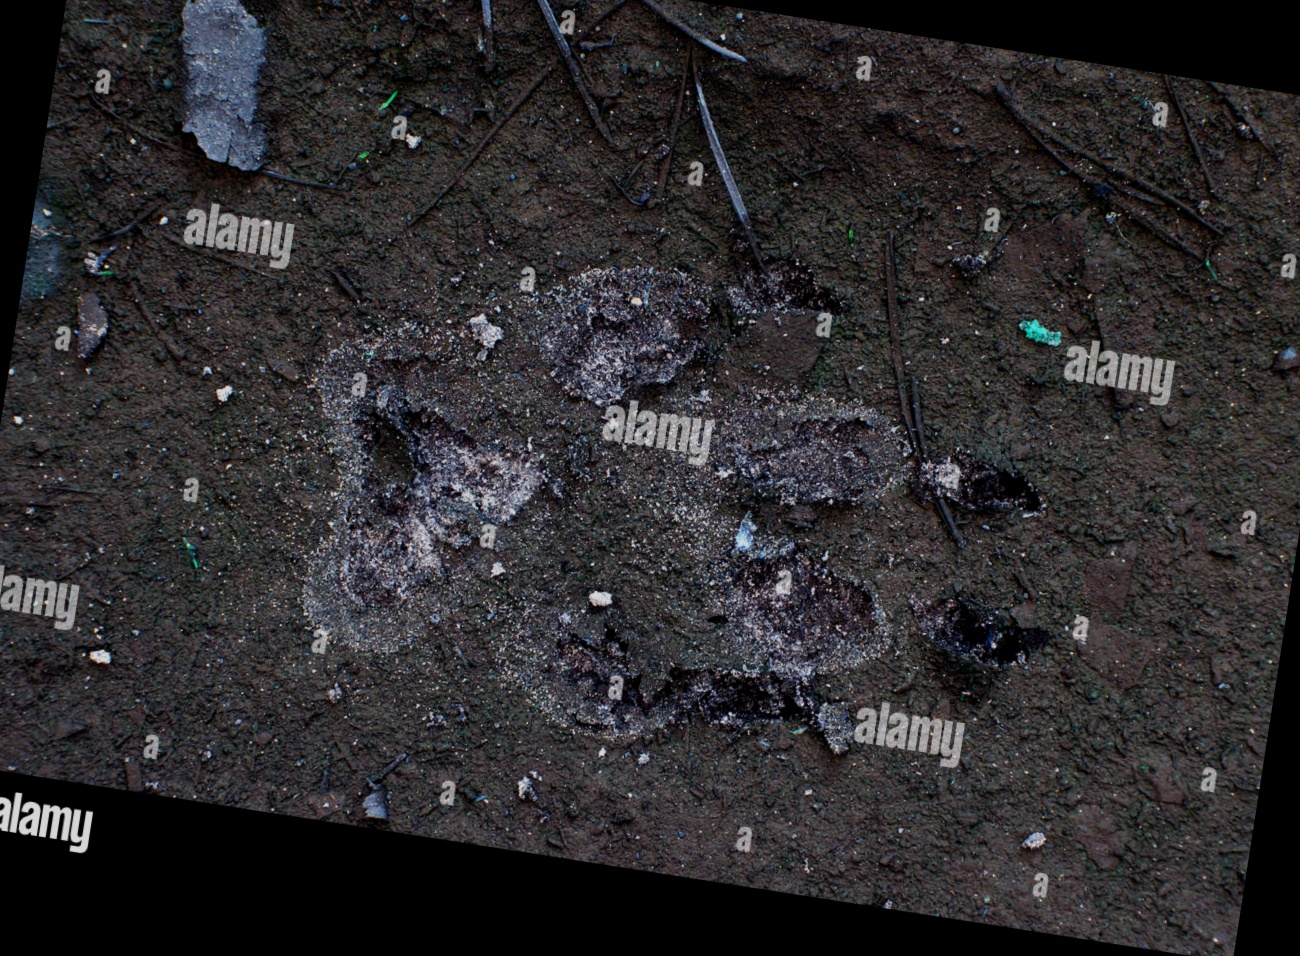loup: (175, 116, 993, 857)
